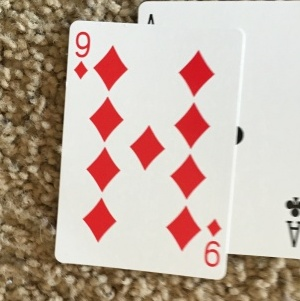card: (57, 18, 243, 283)
